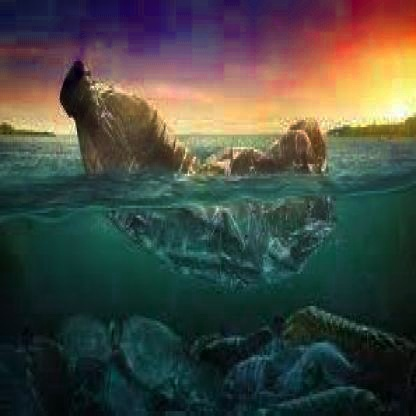pbottle: (56, 61, 336, 269), (107, 308, 217, 404), (228, 345, 359, 409), (276, 301, 402, 365), (7, 311, 77, 416)
